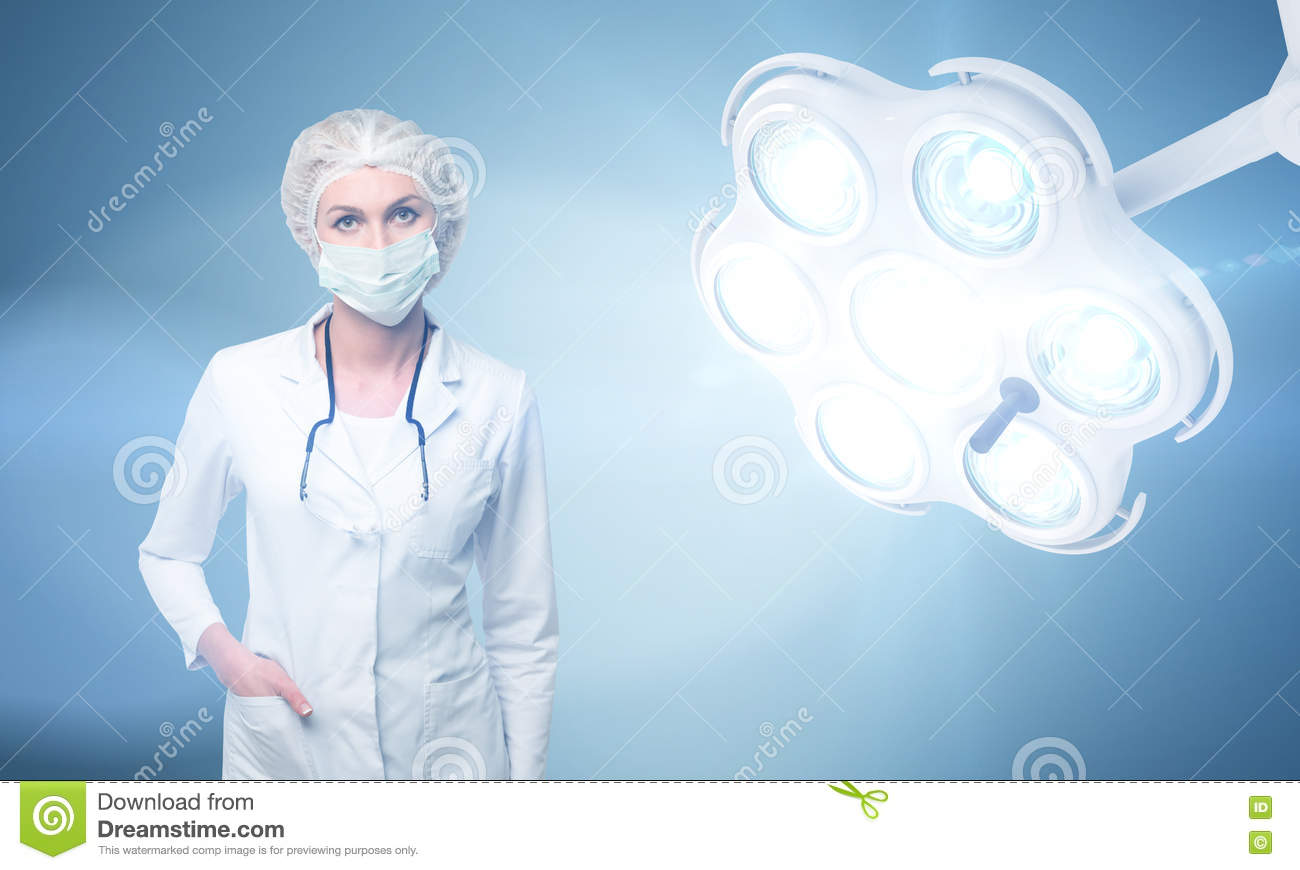mask: (312, 229, 444, 328)
